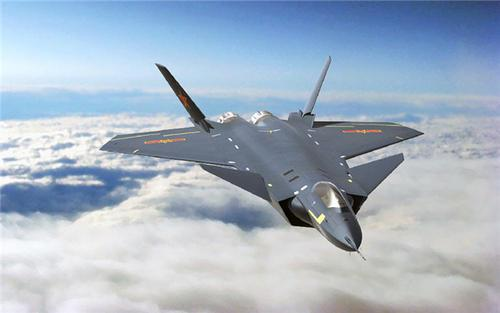airplane: (94, 55, 424, 259)
